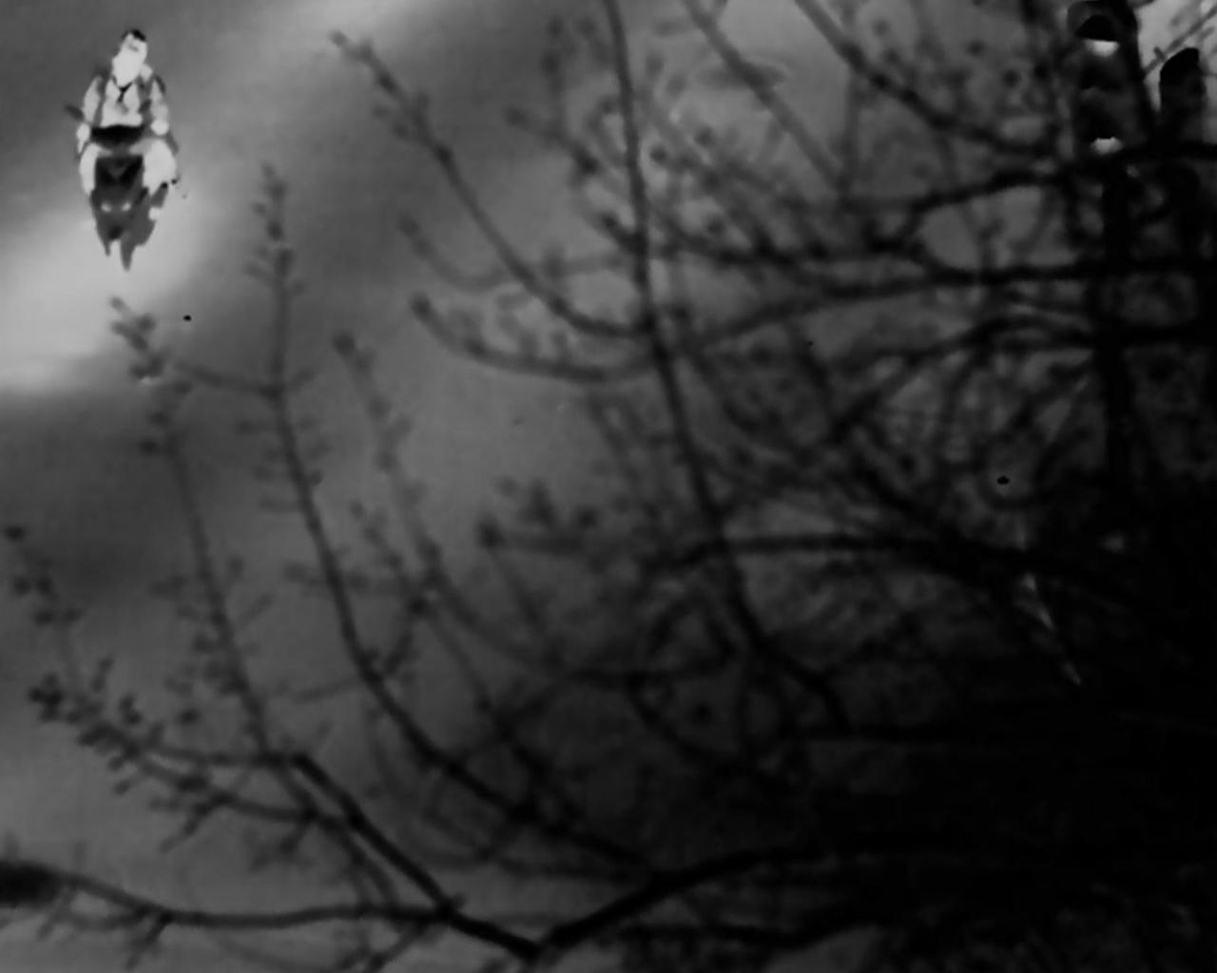person: (89, 24, 188, 215)
